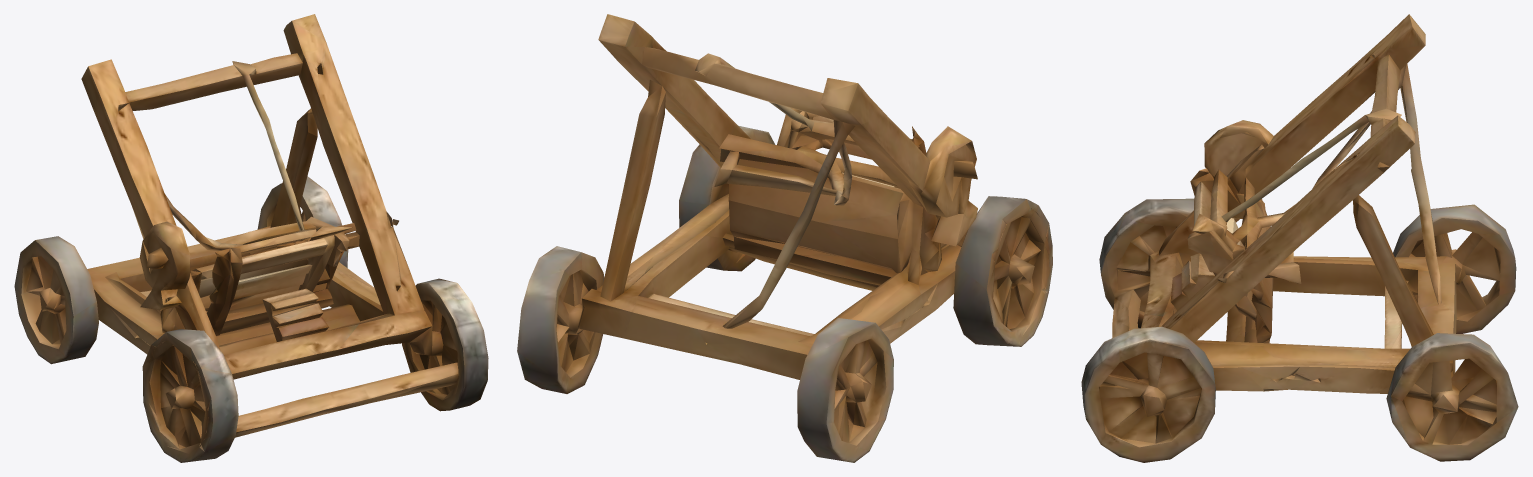
Rendered from siegeCatapultT.glb.
The picture shows the model from 3 angles, left to right: view 1: azimuth 30°, elevation 25°; view 2: azimuth 150°, elevation 25°; view 3: azimuth 270°, elevation 25°; orthographic projection. The views are drawn at different scales.
Parts seen in each view (by area): view 1: model; view 2: model; view 3: model.
Boxes of the visible parts, left/top/right/bottom form: model: left=14, top=14, right=488, bottom=462; model: left=517, top=14, right=1052, bottom=462; model: left=1081, top=14, right=1518, bottom=462.
Bounding box in the file's own units: 1.53 × 1.56 × 1.91.
Materials: 1 (1 with a texture image).
